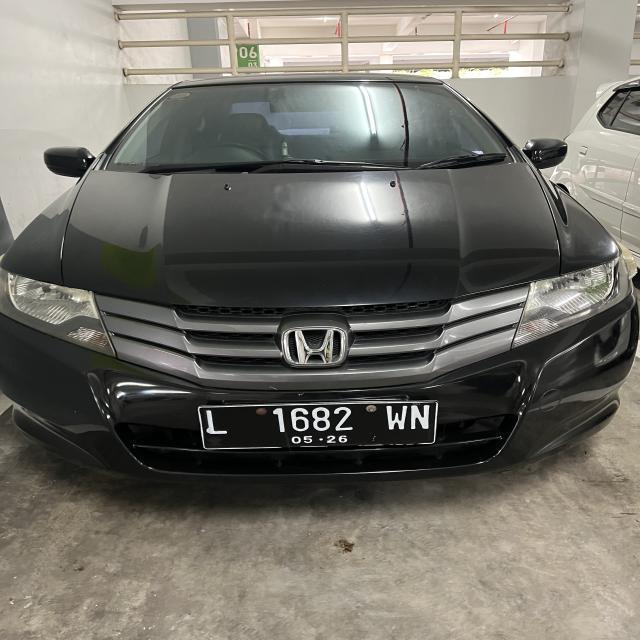1: (272, 408, 290, 436)
2: (334, 405, 356, 432)
6: (291, 406, 311, 431)
8: (313, 406, 332, 432)
L: (204, 410, 230, 438)
N: (410, 404, 430, 430)
W: (384, 403, 408, 432)
